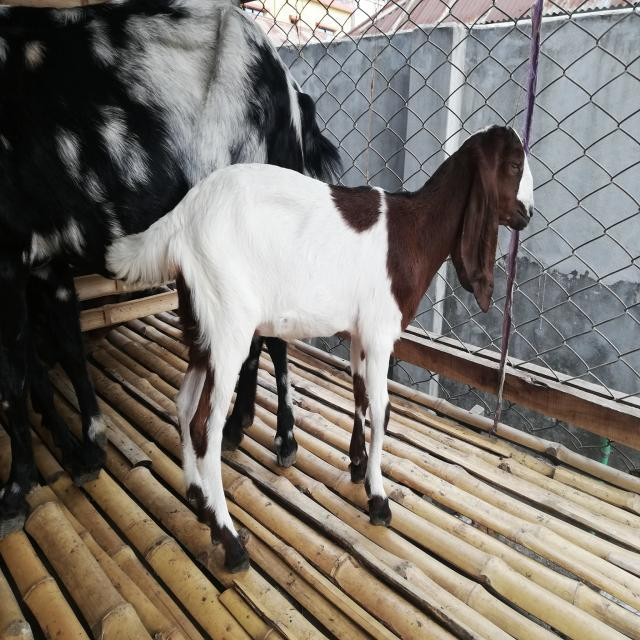Goat: (104, 122, 535, 573), (0, 0, 344, 542)
